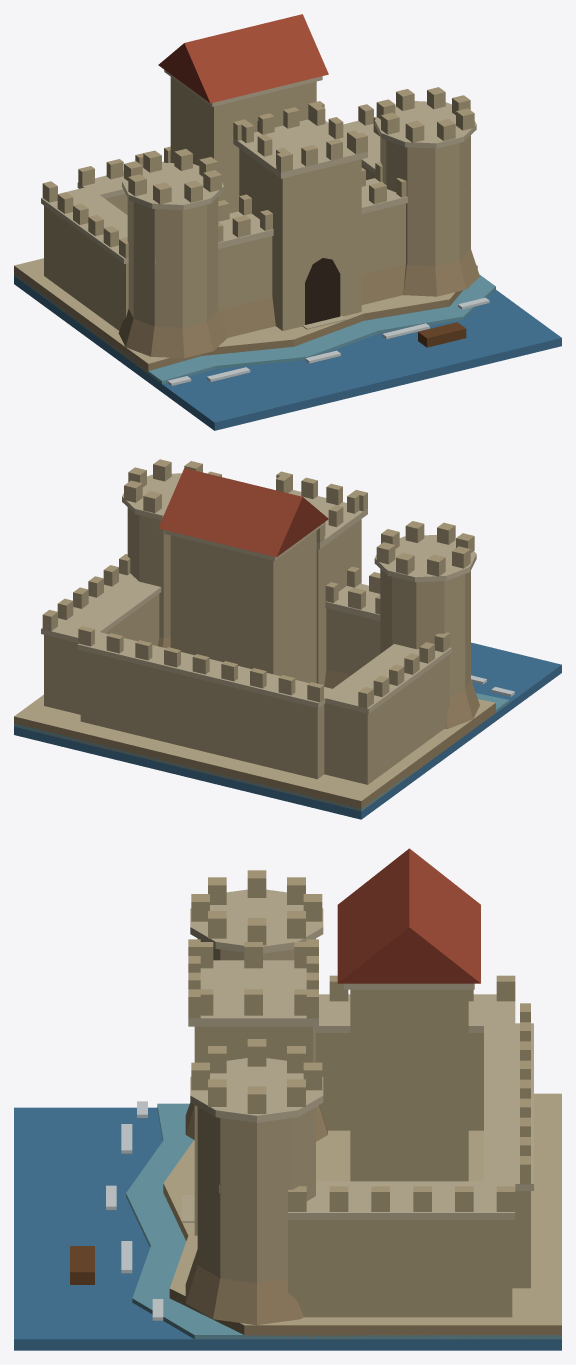
Rendered from citadelleAcre.glb.
3 views of the same model, one above another, from view 1: azimuth 30°, elevation 25°; view 2: azimuth 150°, elevation 25°; view 3: azimuth 270°, elevation 25° (orthographic). The views are drawn at different scales.
Visible parts, largest first — view 1: citadelleAcre; view 2: citadelleAcre; view 3: citadelleAcre.
Boxes of the visible parts, left/top/right/bottom form: citadelleAcre: left=14, top=14, right=561, bottom=430; citadelleAcre: left=14, top=459, right=561, bottom=819; citadelleAcre: left=14, top=848, right=561, bottom=1350.
Size of the model in its own units: 1.76 by 1.23 by 1.76.
